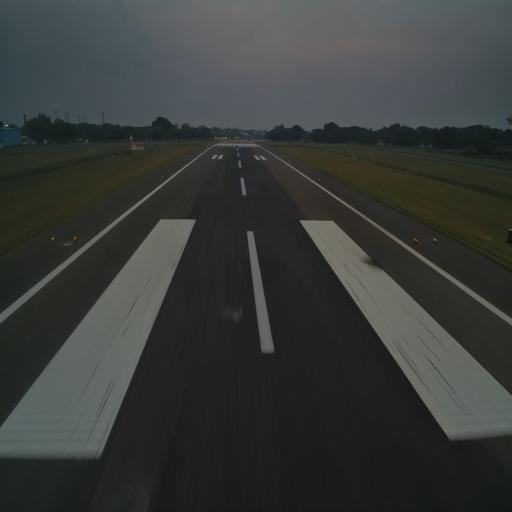on: (412, 235, 420, 247), (430, 234, 438, 246), (71, 232, 78, 243), (50, 234, 56, 244)
